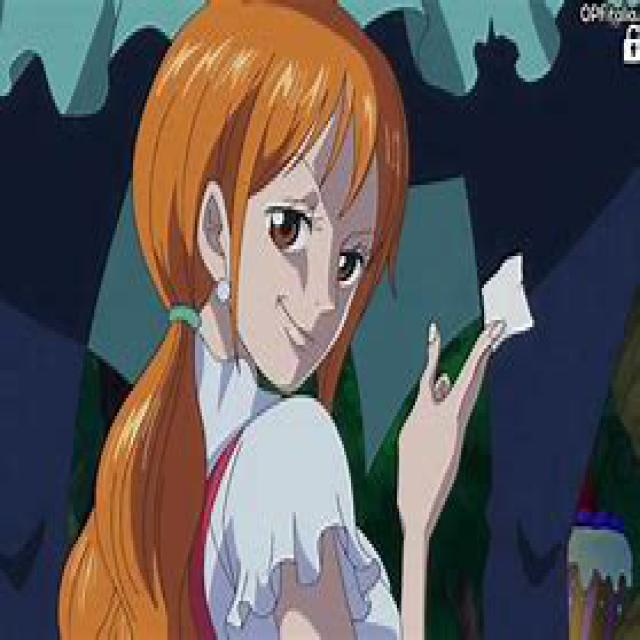Nami: (60, 0, 411, 640)
